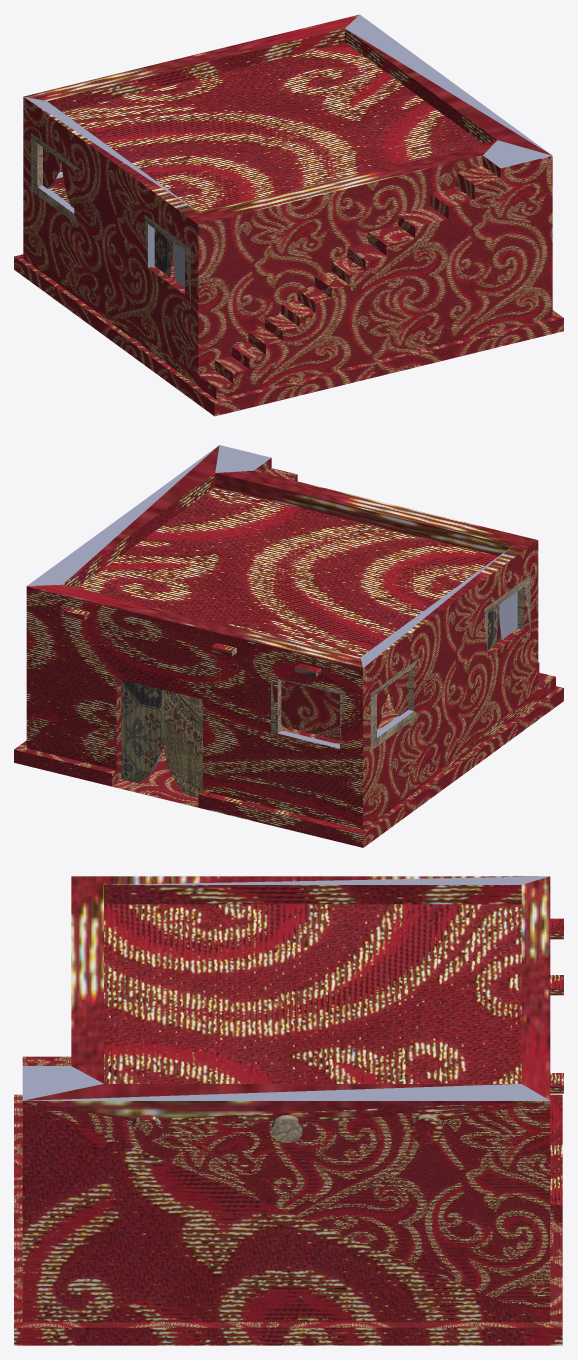
The model's file is Casita.obj.
3 renders of one model, top to bottom at view 1: azimuth 30°, elevation 25°; view 2: azimuth 150°, elevation 25°; view 3: azimuth 270°, elevation 25°, orthographic. The views are drawn at different scales.
Parts seen in each view (by area): view 1: house2.001; view 2: house2.001; view 3: house2.001.
Boxes of the visible parts, x1,y1,x2,y2 form: house2.001: (14,14,563,416); house2.001: (14,445,563,847); house2.001: (14,876,563,1345).
Bounding box in the file's own units: 28.78 × 13.79 × 28.69.
